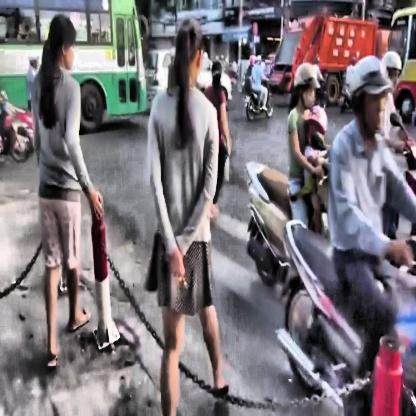not_wear: (174, 13, 204, 88), (47, 11, 78, 72)
wear: (349, 53, 391, 130), (294, 60, 322, 110)
